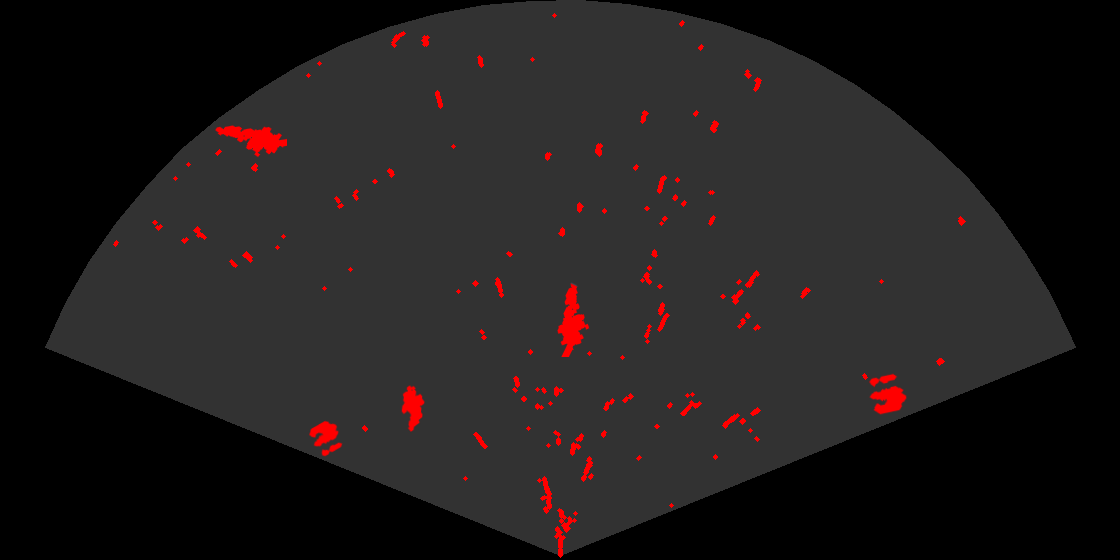AUV: (400, 384, 426, 433)
ball: (867, 372, 908, 416), (307, 419, 344, 458)
frogman: (556, 282, 591, 357), (214, 124, 287, 159)
